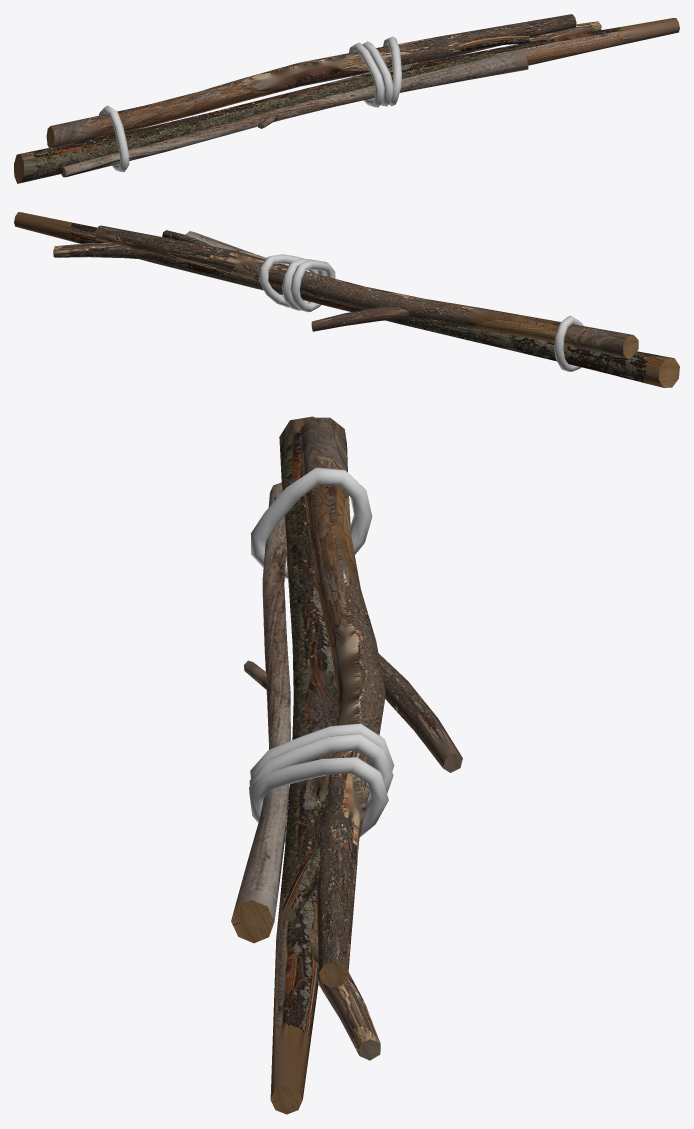
The model's file is village_wood_stick_06.fbx.
3 views of the same model, one above another, from view 1: azimuth 30°, elevation 25°; view 2: azimuth 150°, elevation 25°; view 3: azimuth 270°, elevation 25° (orthographic). The views are drawn at different scales.
Visible parts, largest first — view 1: village_wood_stick_06; view 2: village_wood_stick_06; view 3: village_wood_stick_06.
Part boxes in pixels (x1,y1,x2,y2): village_wood_stick_06: [14, 14, 679, 183]; village_wood_stick_06: [14, 212, 679, 387]; village_wood_stick_06: [231, 416, 462, 1114].
Size of the model in its own units: 316 by 26.66 by 48.46.
